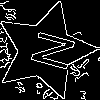N: (20, 26, 77, 73)
